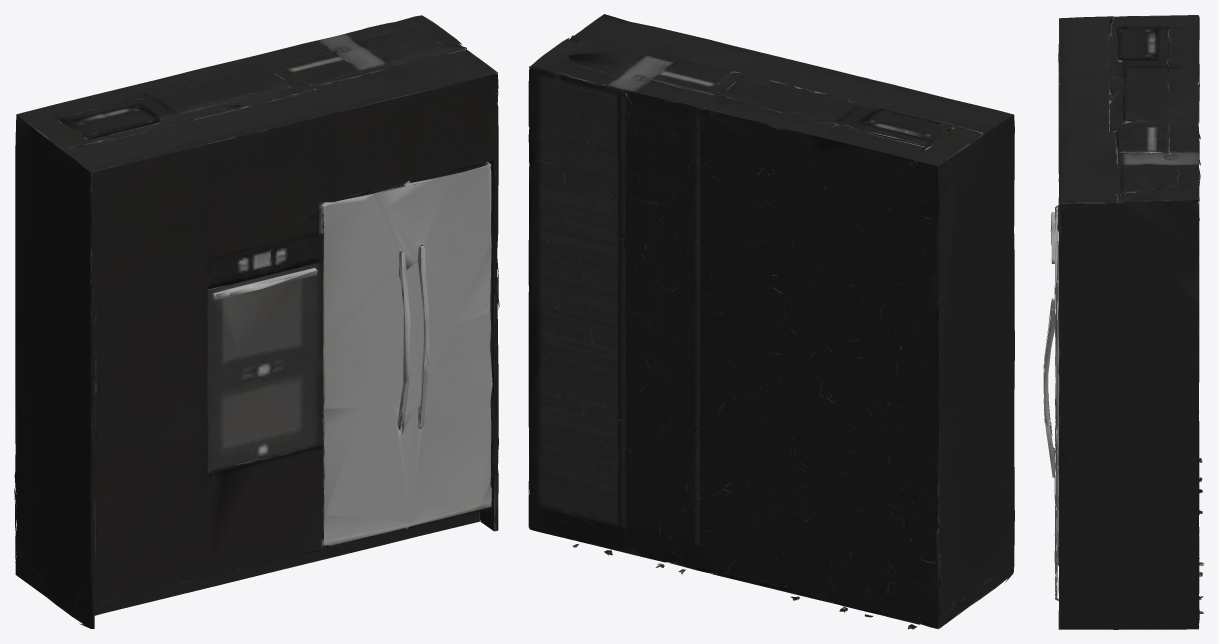
File: PenthouseCabinetWall.glb
The picture shows the model from 3 angles, left to right: view 1: azimuth 30°, elevation 25°; view 2: azimuth 150°, elevation 25°; view 3: azimuth 270°, elevation 25°; orthographic projection. The views are drawn at different scales.
Visible parts, largest first — view 1: Penthouse-Cabinet-Wall_00, Penthouse-Cabinet-Wall_10, Penthouse-Cabinet-Wall_20, Penthouse-Cabinet-Wall_01, Penthouse-Cabinet-Wall_11, Penthouse-Cabinet-Wall_21; view 2: Penthouse-Cabinet-Wall_01, Penthouse-Cabinet-Wall_11, Penthouse-Cabinet-Wall_21, Penthouse-Cabinet-Wall_00, Penthouse-Cabinet-Wall_10, Penthouse-Cabinet-Wall_20; view 3: Penthouse-Cabinet-Wall_21, Penthouse-Cabinet-Wall_20, Penthouse-Cabinet-Wall_11, Penthouse-Cabinet-Wall_01, Penthouse-Cabinet-Wall_10, Penthouse-Cabinet-Wall_00.
Boxes of the visible parts, <box> form: Penthouse-Cabinet-Wall_00: <box>55,110,229,628</box>; Penthouse-Cabinet-Wall_10: <box>191,76,364,586</box>; Penthouse-Cabinet-Wall_20: <box>328,45,499,553</box>; Penthouse-Cabinet-Wall_01: <box>14,81,190,604</box>; Penthouse-Cabinet-Wall_11: <box>151,48,326,289</box>; Penthouse-Cabinet-Wall_21: <box>287,15,462,427</box>; Penthouse-Cabinet-Wall_01: <box>802,102,979,629</box>; Penthouse-Cabinet-Wall_11: <box>665,68,841,600</box>; Penthouse-Cabinet-Wall_21: <box>528,37,705,567</box>; Penthouse-Cabinet-Wall_00: <box>846,81,1014,599</box>; Penthouse-Cabinet-Wall_10: <box>706,47,877,521</box>; Penthouse-Cabinet-Wall_20: <box>571,14,740,489</box>; Penthouse-Cabinet-Wall_21: <box>1124,137,1203,629</box>; Penthouse-Cabinet-Wall_20: <box>1043,137,1123,629</box>; Penthouse-Cabinet-Wall_11: <box>1124,74,1204,565</box>; Penthouse-Cabinet-Wall_01: <box>1124,15,1202,493</box>; Penthouse-Cabinet-Wall_10: <box>1050,76,1123,541</box>; Penthouse-Cabinet-Wall_00: <box>1051,16,1123,219</box>.
Size of the model in its own units: 9.16 by 10.07 by 3.35.
Materials: 1 (1 with a texture image).
